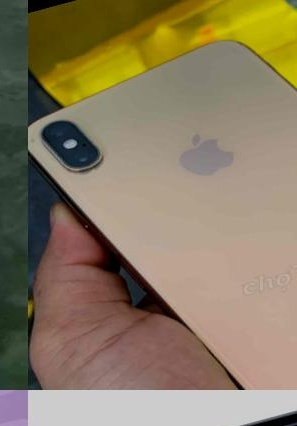scratch: (28, 121, 48, 157)
